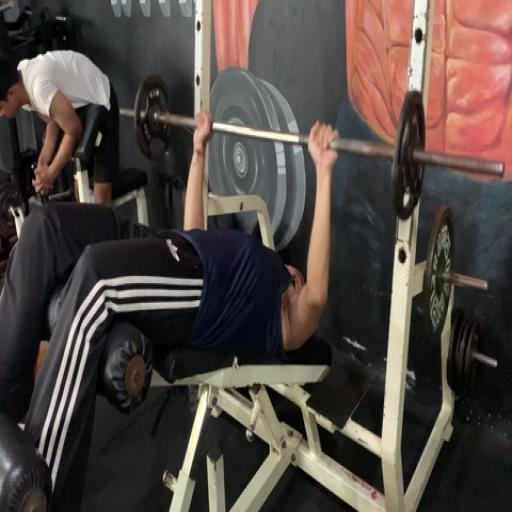exercise: (0, 111, 341, 510), (0, 46, 123, 209)
